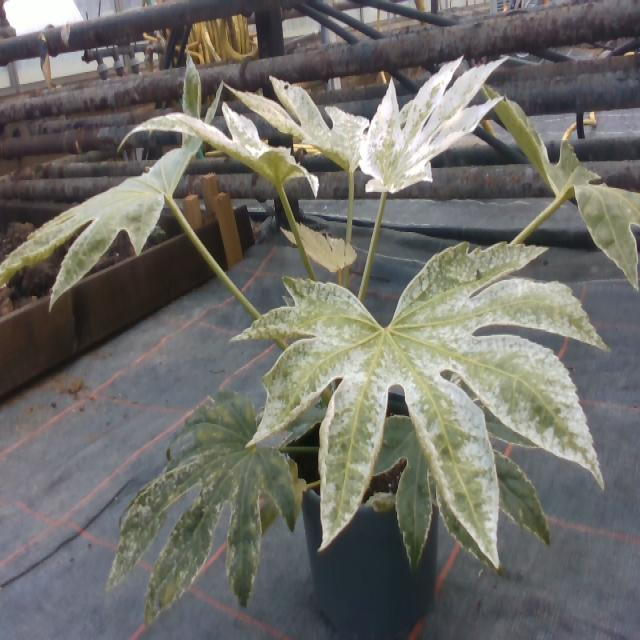Fatsia-japonica: (228, 243, 640, 559), (85, 368, 314, 614), (1, 62, 224, 313), (470, 75, 640, 284), (106, 92, 322, 212), (351, 46, 503, 210), (238, 59, 390, 188), (278, 211, 362, 278)
